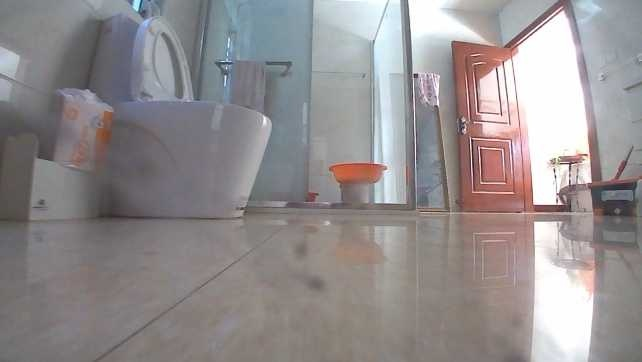door_anno: (449, 38, 534, 214)
toilet: (81, 8, 274, 220)
